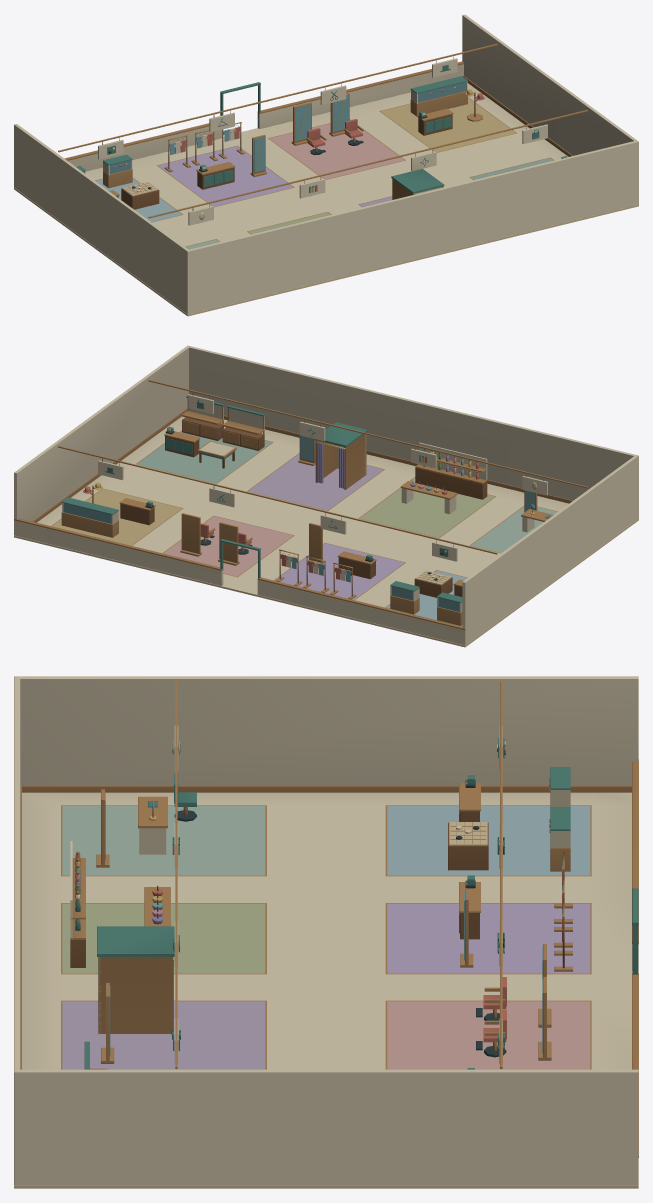
The model's file is mall_interior_low.glb.
3 renders of one model, top to bottom at view 1: azimuth 30°, elevation 25°; view 2: azimuth 150°, elevation 25°; view 3: azimuth 270°, elevation 25°, orthographic. The views are drawn at different scales.
Size of the model in its own units: 30 by 4.12 by 20.01.
